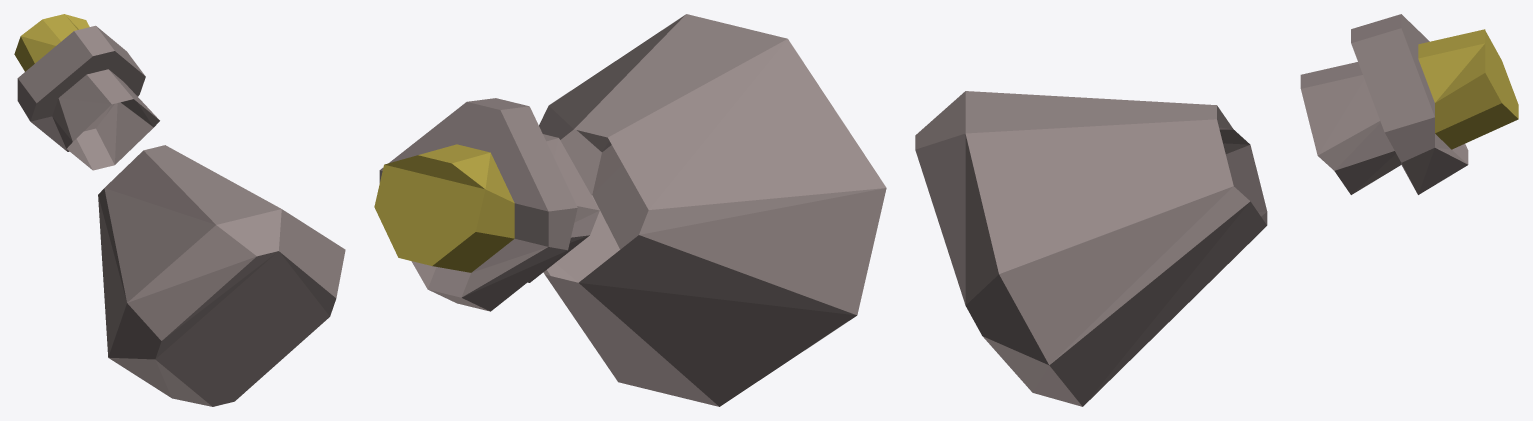
Rendered from gfx_50.obj.
3 views of the same model, side by side, from view 1: azimuth 30°, elevation 25°; view 2: azimuth 150°, elevation 25°; view 3: azimuth 270°, elevation 25° (orthographic). The views are drawn at different scales.
Size of the model in its own units: 0.1562 by 0.1875 by 0.2812.
